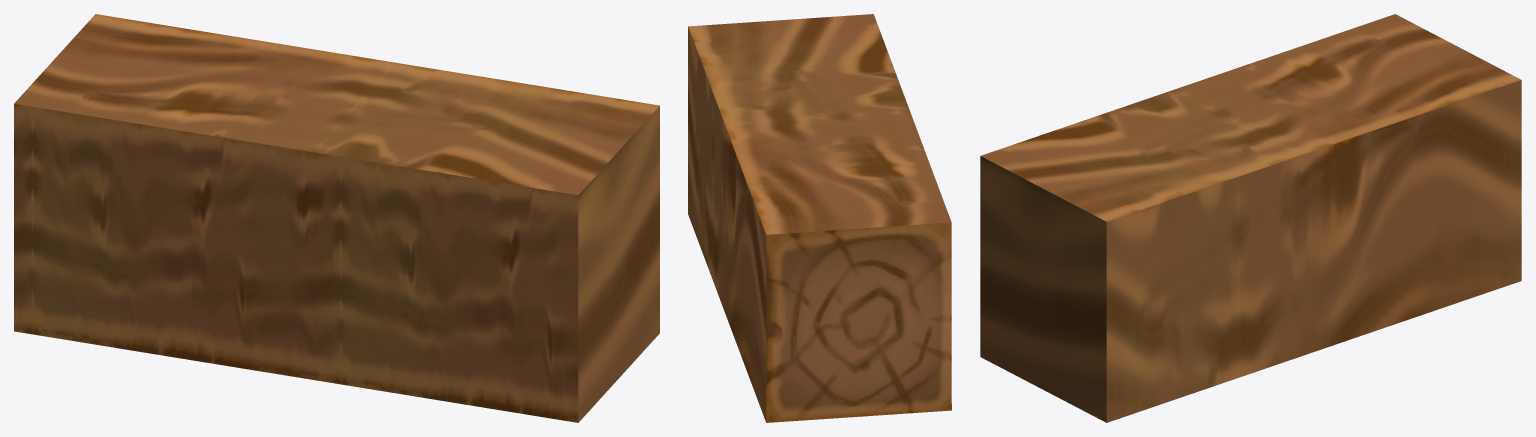
The picture shows the model from 3 angles, left to right: view 1: azimuth 30°, elevation 25°; view 2: azimuth 150°, elevation 25°; view 3: azimuth 270°, elevation 25°; orthographic projection. The views are drawn at different scales.
Parts seen in each view (by area): view 1: Cube.635; view 2: Cube.635; view 3: Cube.635.
Boxes of the visible parts, left/top/right/bottom form: Cube.635: left=14, top=14, right=659, bottom=422; Cube.635: left=688, top=14, right=951, bottom=422; Cube.635: left=980, top=14, right=1521, bottom=422.
Size of the model in its own units: 174 by 78.65 by 192.
Materials: 1 (1 with a texture image).
